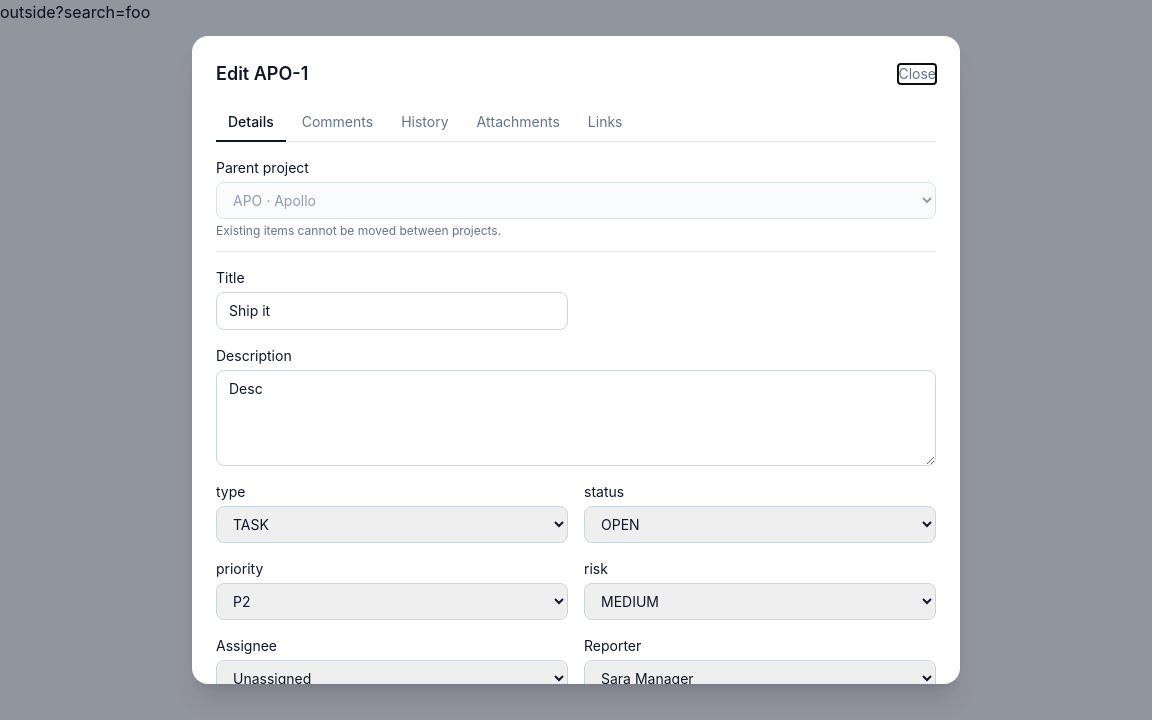
ItemFormModal tabs › lazy-loads comments on first activation, shows the count badge and syncs ?tab=
This screenshot has width=1152, height=720.
Click the tab "Comments": (337, 123) top-left (290, 104), bottom-right (385, 142)
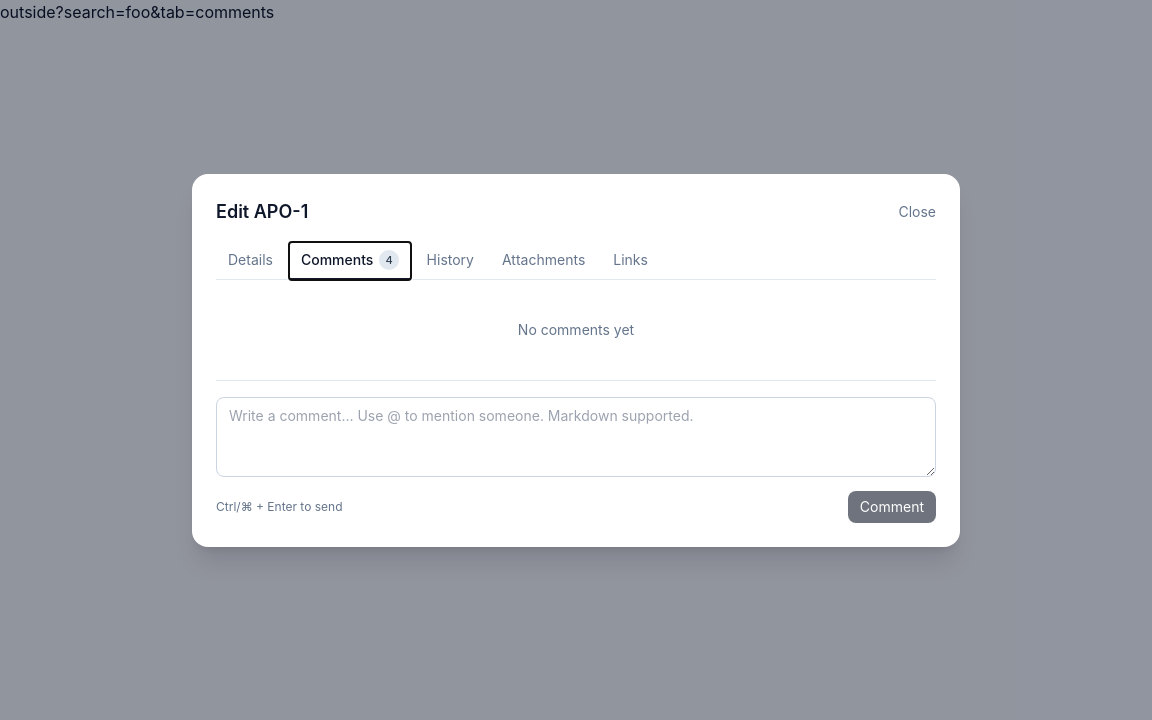
Result: the text "No comments yet" is shown at top-left (518, 320), bottom-right (634, 338)
Result: the tab "Comments 4" is shown at top-left (289, 242), bottom-right (411, 280)
Result: the text with test id "location" reads "?search=foo&tab=comments" at top-left (56, 2), bottom-right (274, 22)
